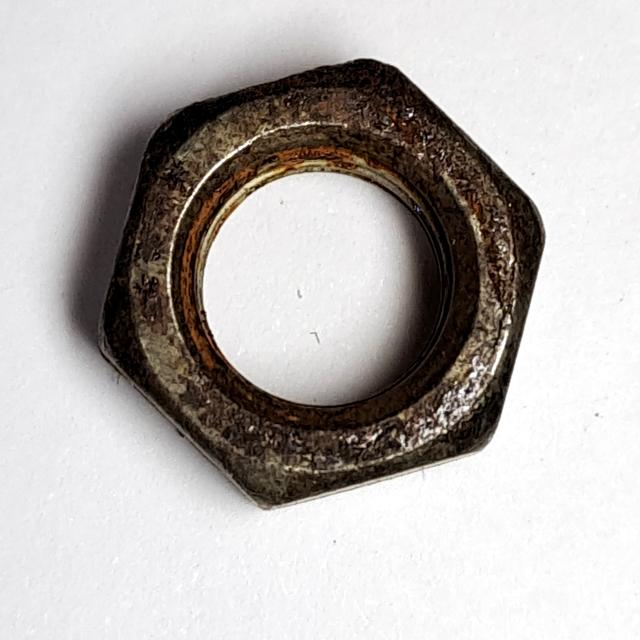Rust: (87, 47, 564, 524)
